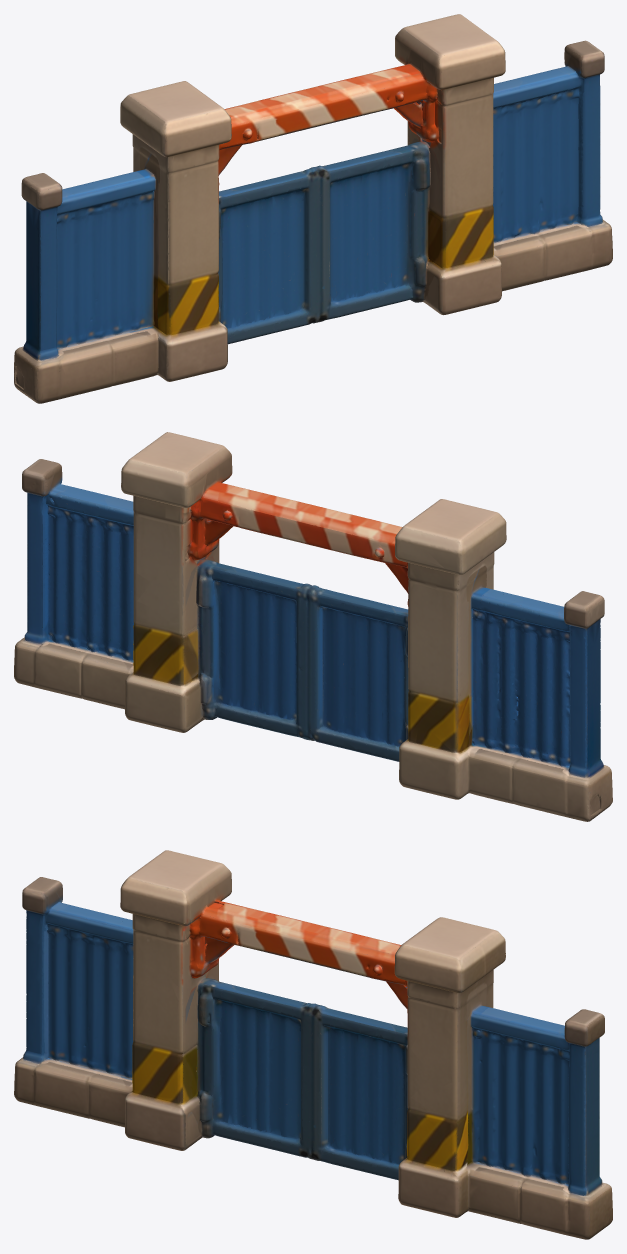
File: DistrictConstructionAI.fbx
The picture shows the model from 3 angles, top to bottom: view 1: azimuth 30°, elevation 25°; view 2: azimuth 150°, elevation 25°; view 3: azimuth 330°, elevation 25°; orthographic projection.
Parts seen in each view (by area): view 1: geometry_0; view 2: geometry_0; view 3: geometry_0.
Part boxes in pixels (<box>): geometry_0: <box>14,14,612,403</box>; geometry_0: <box>14,432,612,821</box>; geometry_0: <box>14,850,612,1239</box>.
Size of the model in its own units: 1 by 0.4323 by 0.1392.
